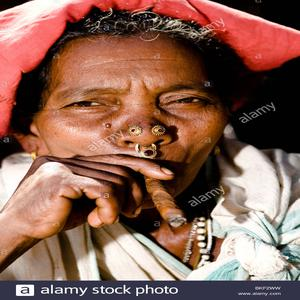cigarette: (142, 169, 187, 230)
